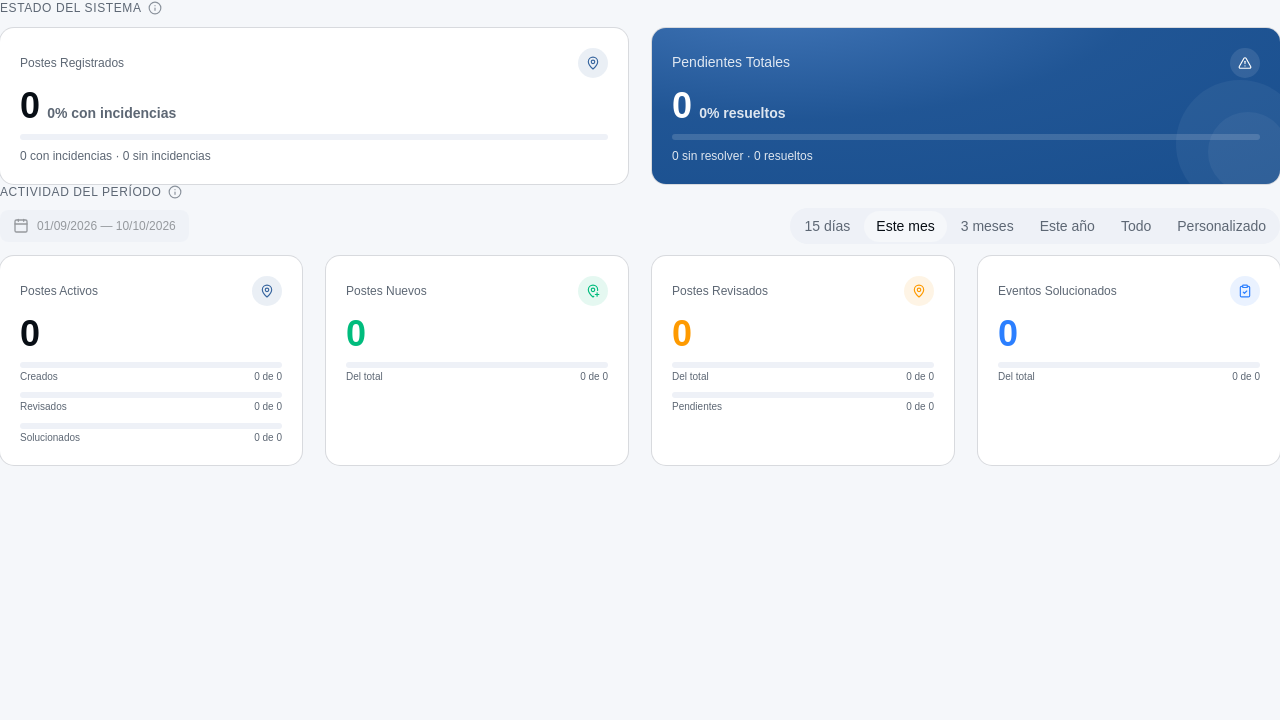
the explanations of the KPI rows › Información sobre el estado del sistema opens on a click
The width and height of the screenshot is (1280, 720).
Click the button named "Información sobre el estado del sistema".
click(154, 8)  # box x1=148 y1=1 x2=162 y2=15
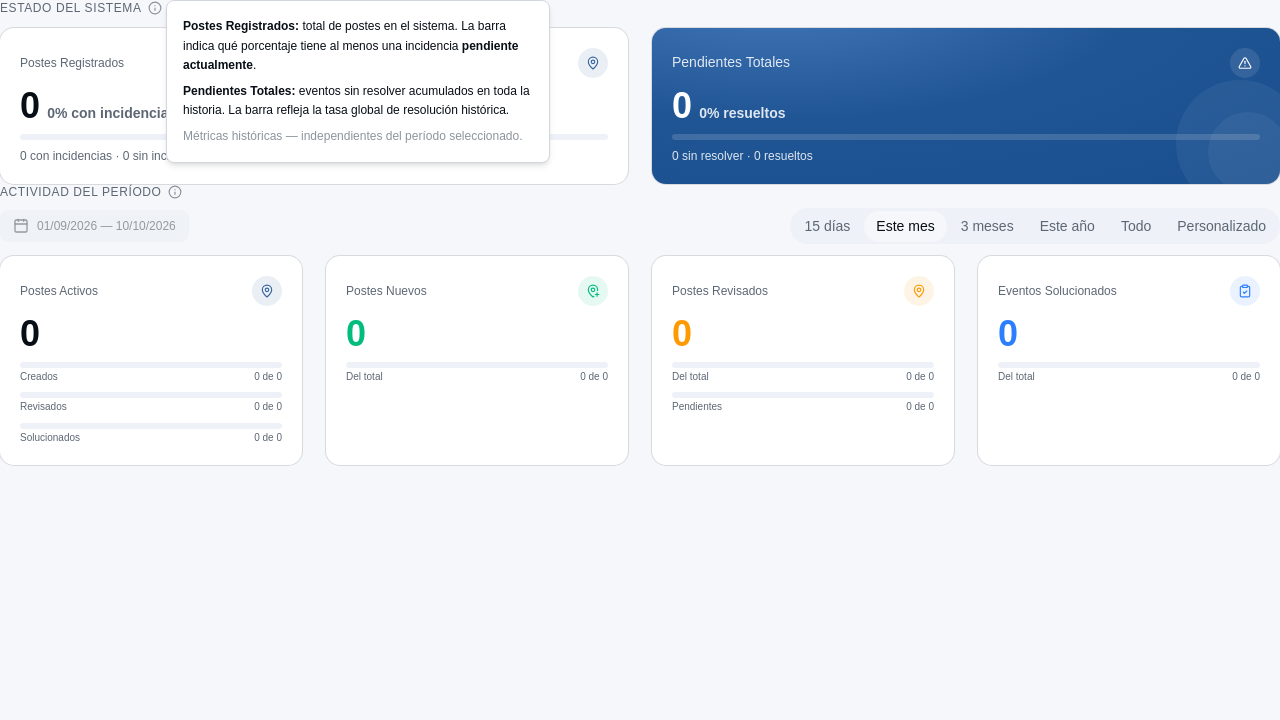
Now the text "total de postes en el sistema" is shown, box x1=183 y1=19 x2=506 y2=52
Click the button named "Información sobre el estado del sistema".
click(154, 8)  # box x1=148 y1=1 x2=162 y2=15
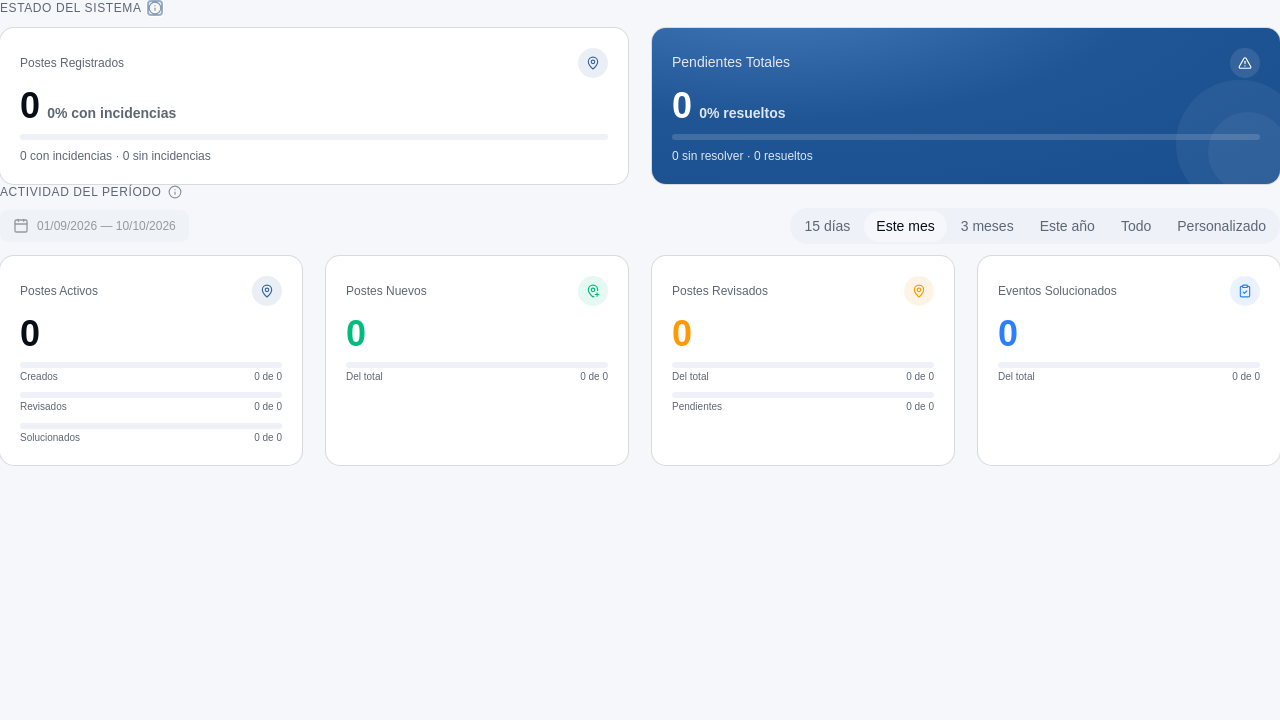
Now the text "total de postes en el sistema" is gone
